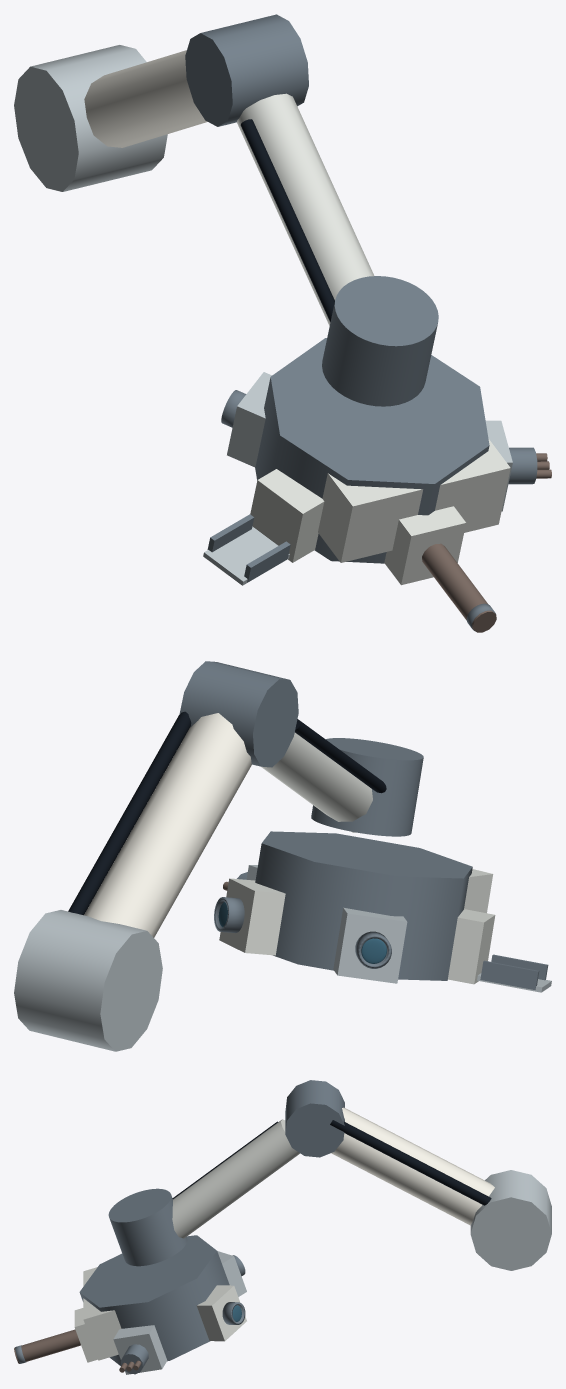
The model's file is curiosity_arm.shoulder_azimuth.glb.
3 renders of one model, top to bottom at view 1: azimuth 30°, elevation 25°; view 2: azimuth 150°, elevation 25°; view 3: azimuth 270°, elevation 25°, orthographic. The views are drawn at different scales.
Visible parts, largest first — view 1: curiosity_arm.shoulder_azimuth.shoulder_elevation.elbow.fore (×3), curiosity_turret.mesh_Machined_steel, curiosity_arm.shoulder_azimuth.shoulder_elevation.mesh_Satin, curiosity_arm.shoulder_azimuth.shoulder_elevation.elbow.mesh, curiosity_turret.mesh_Pale_thermal_blanket, curiosity_arm.shoulder_azimuth.shoulder_elevation.mesh_Warm_, curiosity_turret.chimra.mesh_Pale_thermal_blanket, curiosity_turret.drill.mesh_Pale_thermal_blanket, curiosity_turret.drill.mesh_Heat-stained_alloy, curiosity_turret.apxs.mesh_Satin_aluminum, curiosity_turret.chimra.mesh_Satin_aluminum, curiosity_turret.chimra.mesh_Machined_steel (+1 smaller); view 2: curiosity_turret.mesh_Machined_steel, curiosity_arm.shoulder_azimuth.shoulder_elevation.mesh_Satin, curiosity_arm.shoulder_azimuth.shoulder_elevation.mesh_Warm_, curiosity_arm.shoulder_azimuth.shoulder_elevation.elbow.fore (×3), curiosity_arm.shoulder_azimuth.shoulder_elevation.elbow.mesh, curiosity_arm.shoulder_azimuth.shoulder_elevation.mesh_Shado, curiosity_turret.apxs.mesh_Satin_aluminum, curiosity_turret.mahli.mesh_Pale_thermal_blanket, curiosity_turret.chimra.mesh_Pale_thermal_blanket, curiosity_turret.chimra.mesh_Machined_steel, curiosity_turret.mesh_Pale_thermal_blanket, curiosity_turret.mahli.aperture.mesh_Machined_steel (+2 smaller); view 3: curiosity_arm.shoulder_azimuth.shoulder_elevation.elbow.fore (×2), curiosity_turret.mesh_Machined_steel, curiosity_arm.shoulder_azimuth.shoulder_elevation.mesh_Satin, curiosity_arm.shoulder_azimuth.shoulder_elevation.mesh_Warm_, curiosity_arm.shoulder_azimuth.shoulder_elevation.elbow.mesh, curiosity_arm.shoulder_azimuth.shoulder_elevation.mesh_Shado, curiosity_turret.mesh_Pale_thermal_blanket, curiosity_turret.mahli.mesh_Pale_thermal_blanket, curiosity_turret.drt.mesh_Satin_aluminum, curiosity_turret.drill.mesh_Heat-stained_alloy, curiosity_turret.drill.mesh_Pale_thermal_blanket, curiosity_turret.apxs.mesh_Satin_aluminum (+2 smaller).
Boxes of the visible parts, x1,y1,x2,y2 form: curiosity_arm.shoulder_azimuth.shoulder_elevation.elbow.fore (×3): (237,93,438,406); curiosity_turret.mesh_Machined_steel: (255,338,489,563); curiosity_arm.shoulder_azimuth.shoulder_elevation.mesh_Satin: (14,45,167,191); curiosity_arm.shoulder_azimuth.shoulder_elevation.elbow.mesh: (185,14,308,126); curiosity_turret.mesh_Pale_thermal_blanket: (318,438,510,562); curiosity_arm.shoulder_azimuth.shoulder_elevation.mesh_Warm_: (84,50,207,147); curiosity_turret.chimra.mesh_Pale_thermal_blanket: (250,469,324,562); curiosity_turret.drill.mesh_Pale_thermal_blanket: (384,506,465,585); curiosity_turret.drill.mesh_Heat-stained_alloy: (422,543,496,632); curiosity_turret.apxs.mesh_Satin_aluminum: (227,372,271,467); curiosity_turret.chimra.mesh_Satin_aluminum: (203,526,289,585); curiosity_turret.chimra.mesh_Machined_steel: (207,514,290,582); curiosity_turret.mesh_Machined_steel: (255,831,472,980); curiosity_arm.shoulder_azimuth.shoulder_elevation.mesh_Satin: (14,910,162,1051); curiosity_arm.shoulder_azimuth.shoulder_elevation.mesh_Warm_: (84,713,251,937); curiosity_arm.shoulder_azimuth.shoulder_elevation.elbow.fore (×3): (261,719,423,836); curiosity_arm.shoulder_azimuth.shoulder_elevation.elbow.mesh: (179,661,298,767); curiosity_arm.shoulder_azimuth.shoulder_elevation.mesh_Shado: (68,711,191,915); curiosity_turret.apxs.mesh_Satin_aluminum: (333,907,407,983); curiosity_turret.mahli.mesh_Pale_thermal_blanket: (219,878,285,955); curiosity_turret.chimra.mesh_Pale_thermal_blanket: (447,909,495,984); curiosity_turret.chimra.mesh_Machined_steel: (480,954,548,989); curiosity_turret.mesh_Pale_thermal_blanket: (464,869,493,913); curiosity_turret.mahli.aperture.mesh_Machined_steel: (214,897,244,933); curiosity_arm.shoulder_azimuth.shoulder_elevation.elbow.fore (×2): (108,1119,299,1266); curiosity_turret.mesh_Machined_steel: (79,1235,229,1365); curiosity_arm.shoulder_azimuth.shoulder_elevation.mesh_Satin: (470,1170,551,1270); curiosity_arm.shoulder_azimuth.shoulder_elevation.mesh_Warm_: (331,1107,494,1225); curiosity_arm.shoulder_azimuth.shoulder_elevation.elbow.mesh: (285,1080,344,1157); curiosity_arm.shoulder_azimuth.shoulder_elevation.mesh_Shado: (330,1120,491,1205); curiosity_turret.mesh_Pale_thermal_blanket: (83,1267,121,1360); curiosity_turret.mahli.mesh_Pale_thermal_blanket: (196,1285,246,1341); curiosity_turret.drt.mesh_Satin_aluminum: (113,1325,167,1374); curiosity_turret.drill.mesh_Heat-stained_alloy: (14,1329,80,1363); curiosity_turret.drill.mesh_Pale_thermal_blanket: (74,1308,97,1362); curiosity_turret.apxs.mesh_Satin_aluminum: (217,1251,246,1296).
Bounding box in the file's own units: 0.7668 × 0.942 × 1.69.
